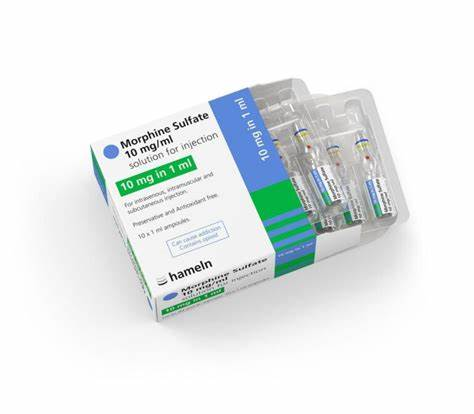Medicine: (81, 87, 307, 326), (276, 92, 342, 223), (347, 106, 398, 221), (317, 123, 358, 228)
